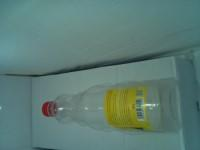bottle: (109, 0, 111, 29)
